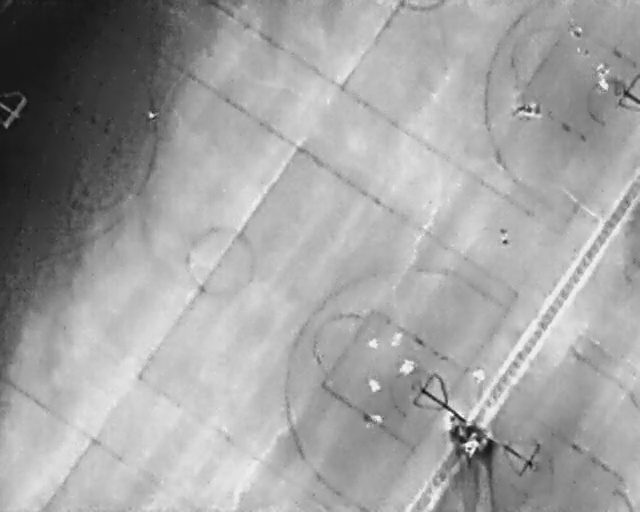Person: (456, 433, 484, 461), (395, 355, 420, 380), (513, 102, 544, 119), (385, 327, 407, 350), (363, 373, 384, 394), (596, 63, 611, 92), (363, 412, 385, 426), (471, 367, 485, 385), (498, 227, 510, 246), (145, 109, 160, 123), (570, 25, 585, 38), (369, 337, 379, 348)
